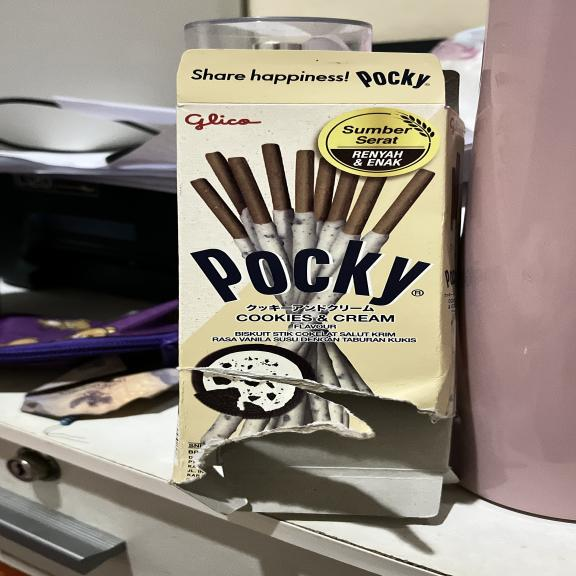Kertas: (173, 103, 452, 471)
